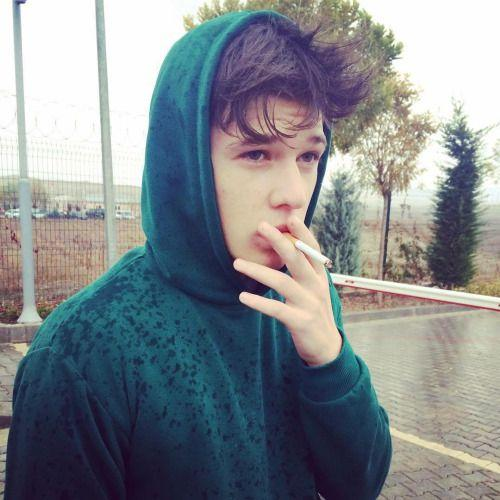cigarette: (283, 231, 333, 268)
